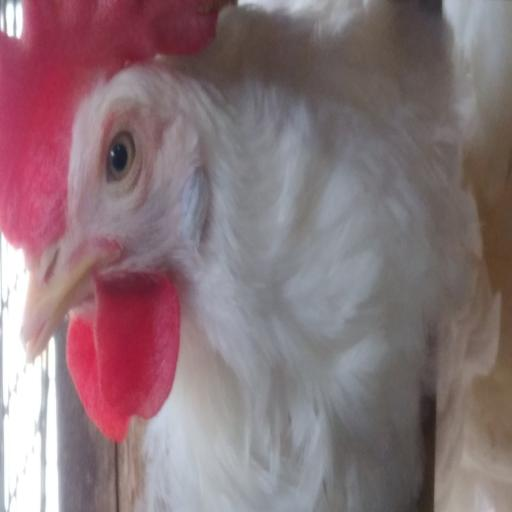healthy: (40, 70, 206, 294)
